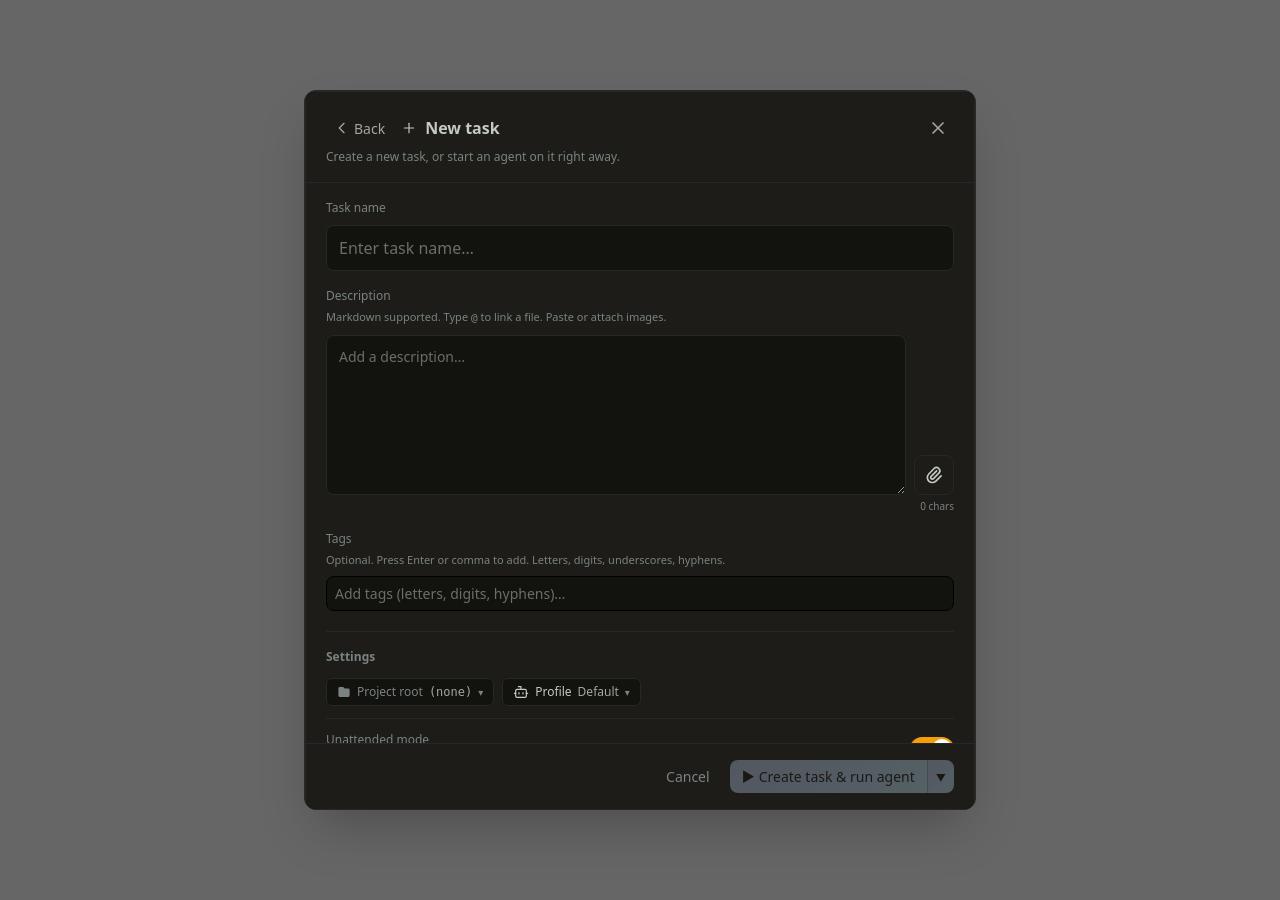
Scenario: KanbanTaskDetailDialog — Create task & run agent › enables the create-and-run button when name is non-empty (description may be empty)
The image size is (1280, 900).
Type "My task title" into the field with test id "kanban-task-detail-create-name".
click(640, 248); type("My task title")  # box [326,225,954,271]
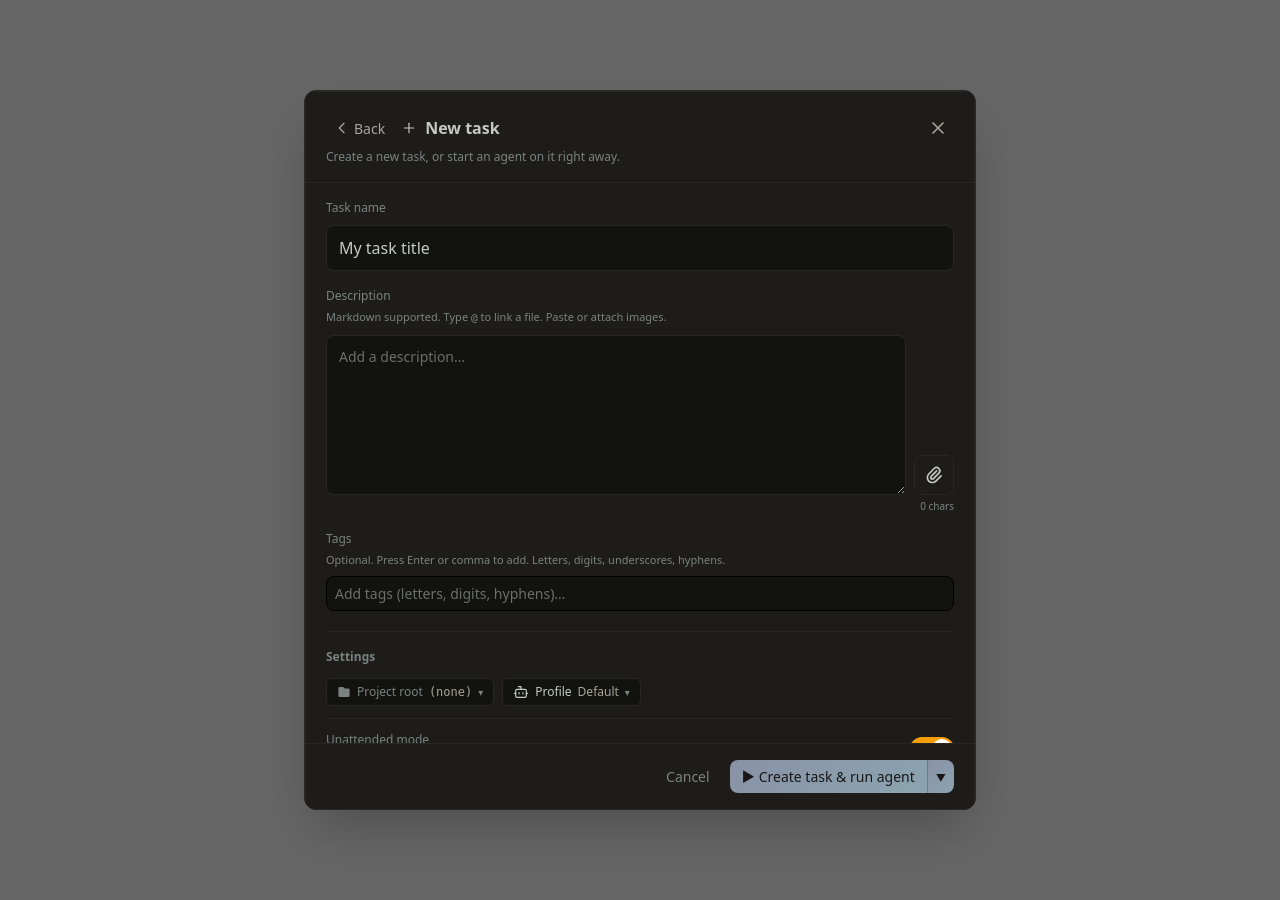
Check: the button with test id "kanban-task-detail-create-and-run" is enabled, box [730,760,927,793]
